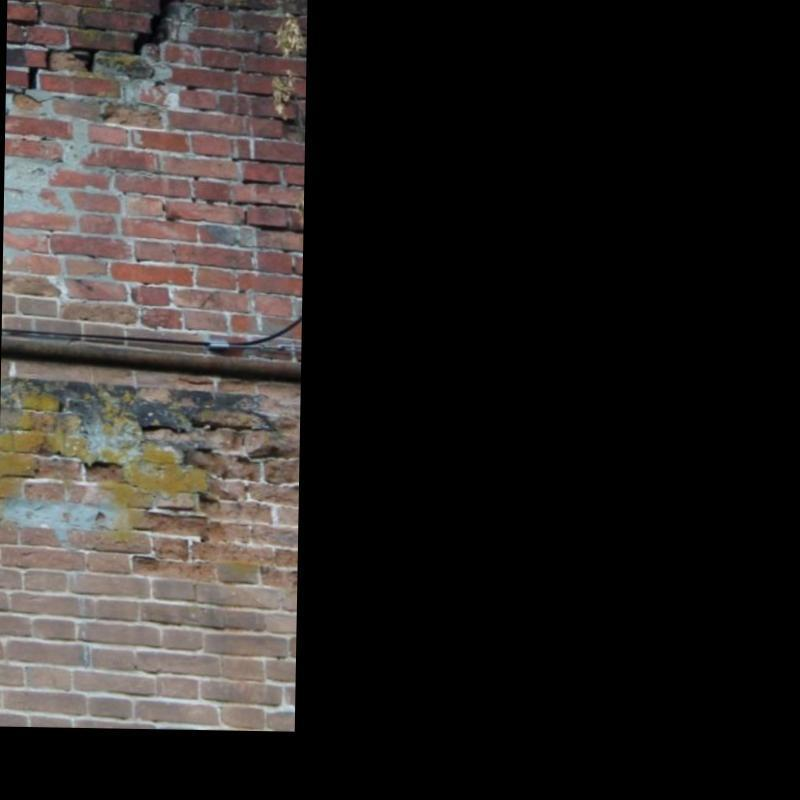crack: (131, 0, 185, 55), (26, 48, 53, 90), (65, 46, 99, 72)
